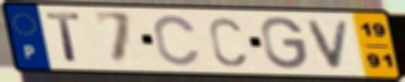7: (91, 10, 135, 68)
C: (152, 13, 203, 68), (206, 15, 249, 68)
G: (259, 15, 310, 71)
T: (43, 11, 84, 65)
V: (304, 19, 354, 71)
